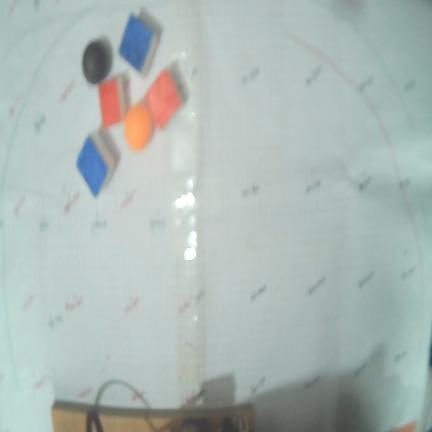circle_blue: (82, 36, 112, 84)
circle_orange: (125, 103, 153, 150)
rectangle_blue: (76, 136, 111, 198)
rectangle_orange: (98, 74, 121, 128)
square_blue: (118, 12, 157, 75)
square_orange: (146, 68, 182, 129)
